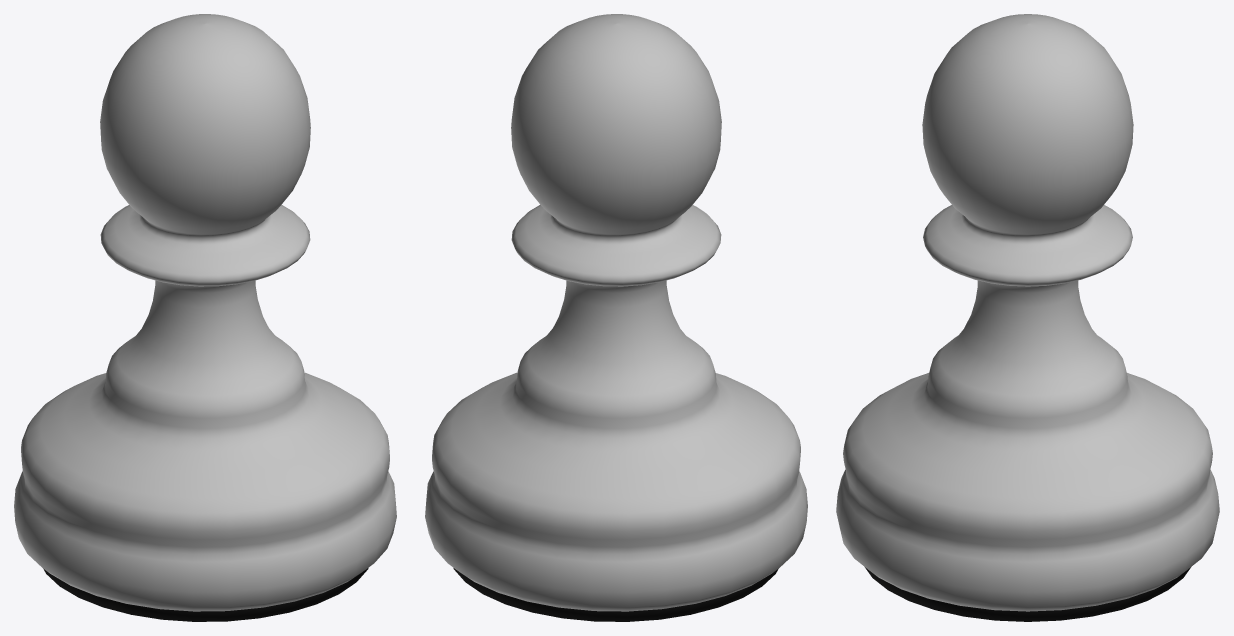
The model's file is pawn.glb.
3 renders of one model, left to right at view 1: azimuth 30°, elevation 25°; view 2: azimuth 150°, elevation 25°; view 3: azimuth 270°, elevation 25°, orthographic.
Visible parts, largest first — view 1: Pawn; view 2: Pawn; view 3: Pawn.
Part boxes in pixels (box(x1,y1,x2,y2)): Pawn: box(14, 14, 396, 621); Pawn: box(425, 14, 807, 621); Pawn: box(836, 14, 1219, 621).
Size of the model in its own units: 1.32 by 2.01 by 1.32.
Materials: 2 (1 with a texture image).
